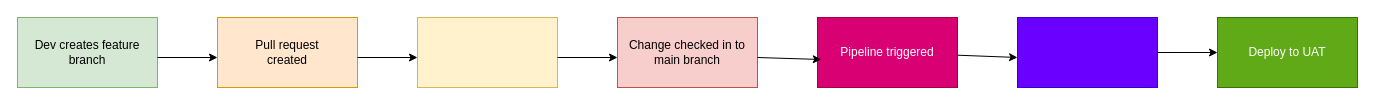
Some shapes in this 1375 by 105 pixel diagram are drawn without their labels. Here are the shapes that lost their labels. From the top down, the centre of each, then its label:
At (x=487, y=52): "Code Reviewed".
At (x=1087, y=52): "Artifact Packaged and deployed to test environment".
